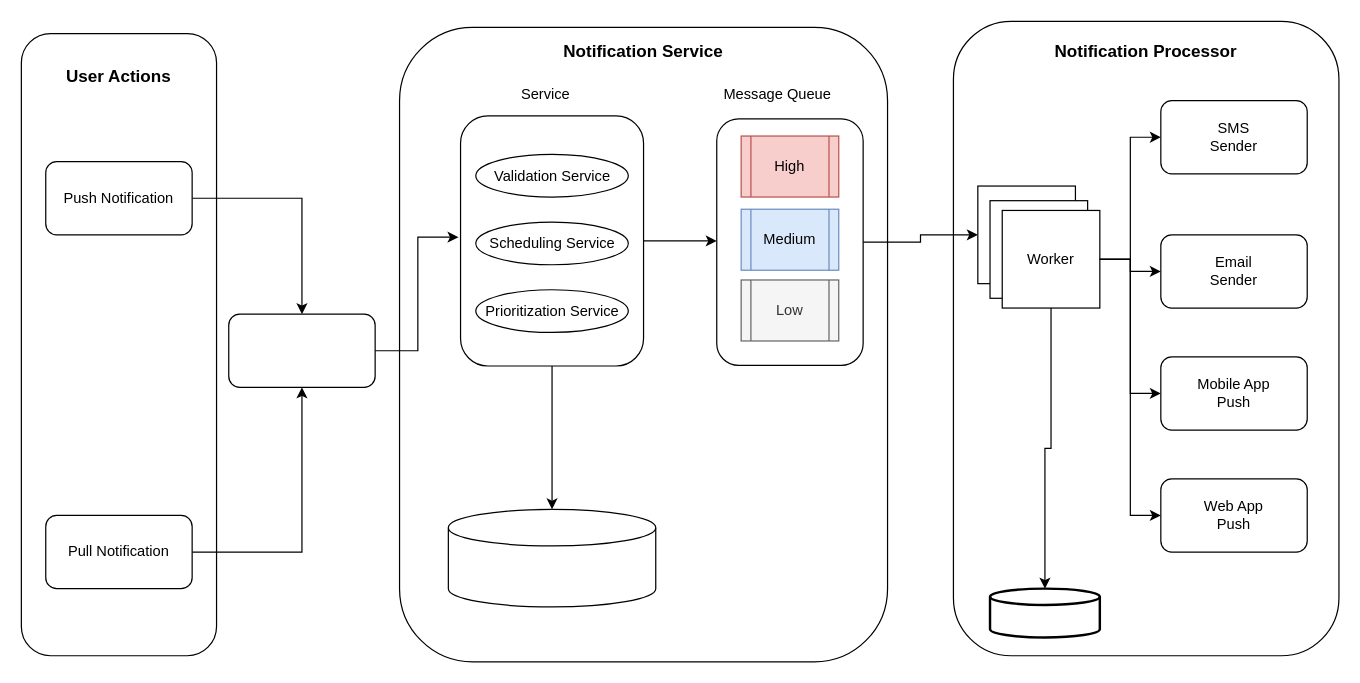
This 1360x683 diagram has some shape labels left out. Here are the shapes that lost their labels. From the top down, the centre of each, then its label:
At [301,350]: "Load Balancer".
At [551,557]: "Notification DB".
At [1044,612]: "Redis cache".
